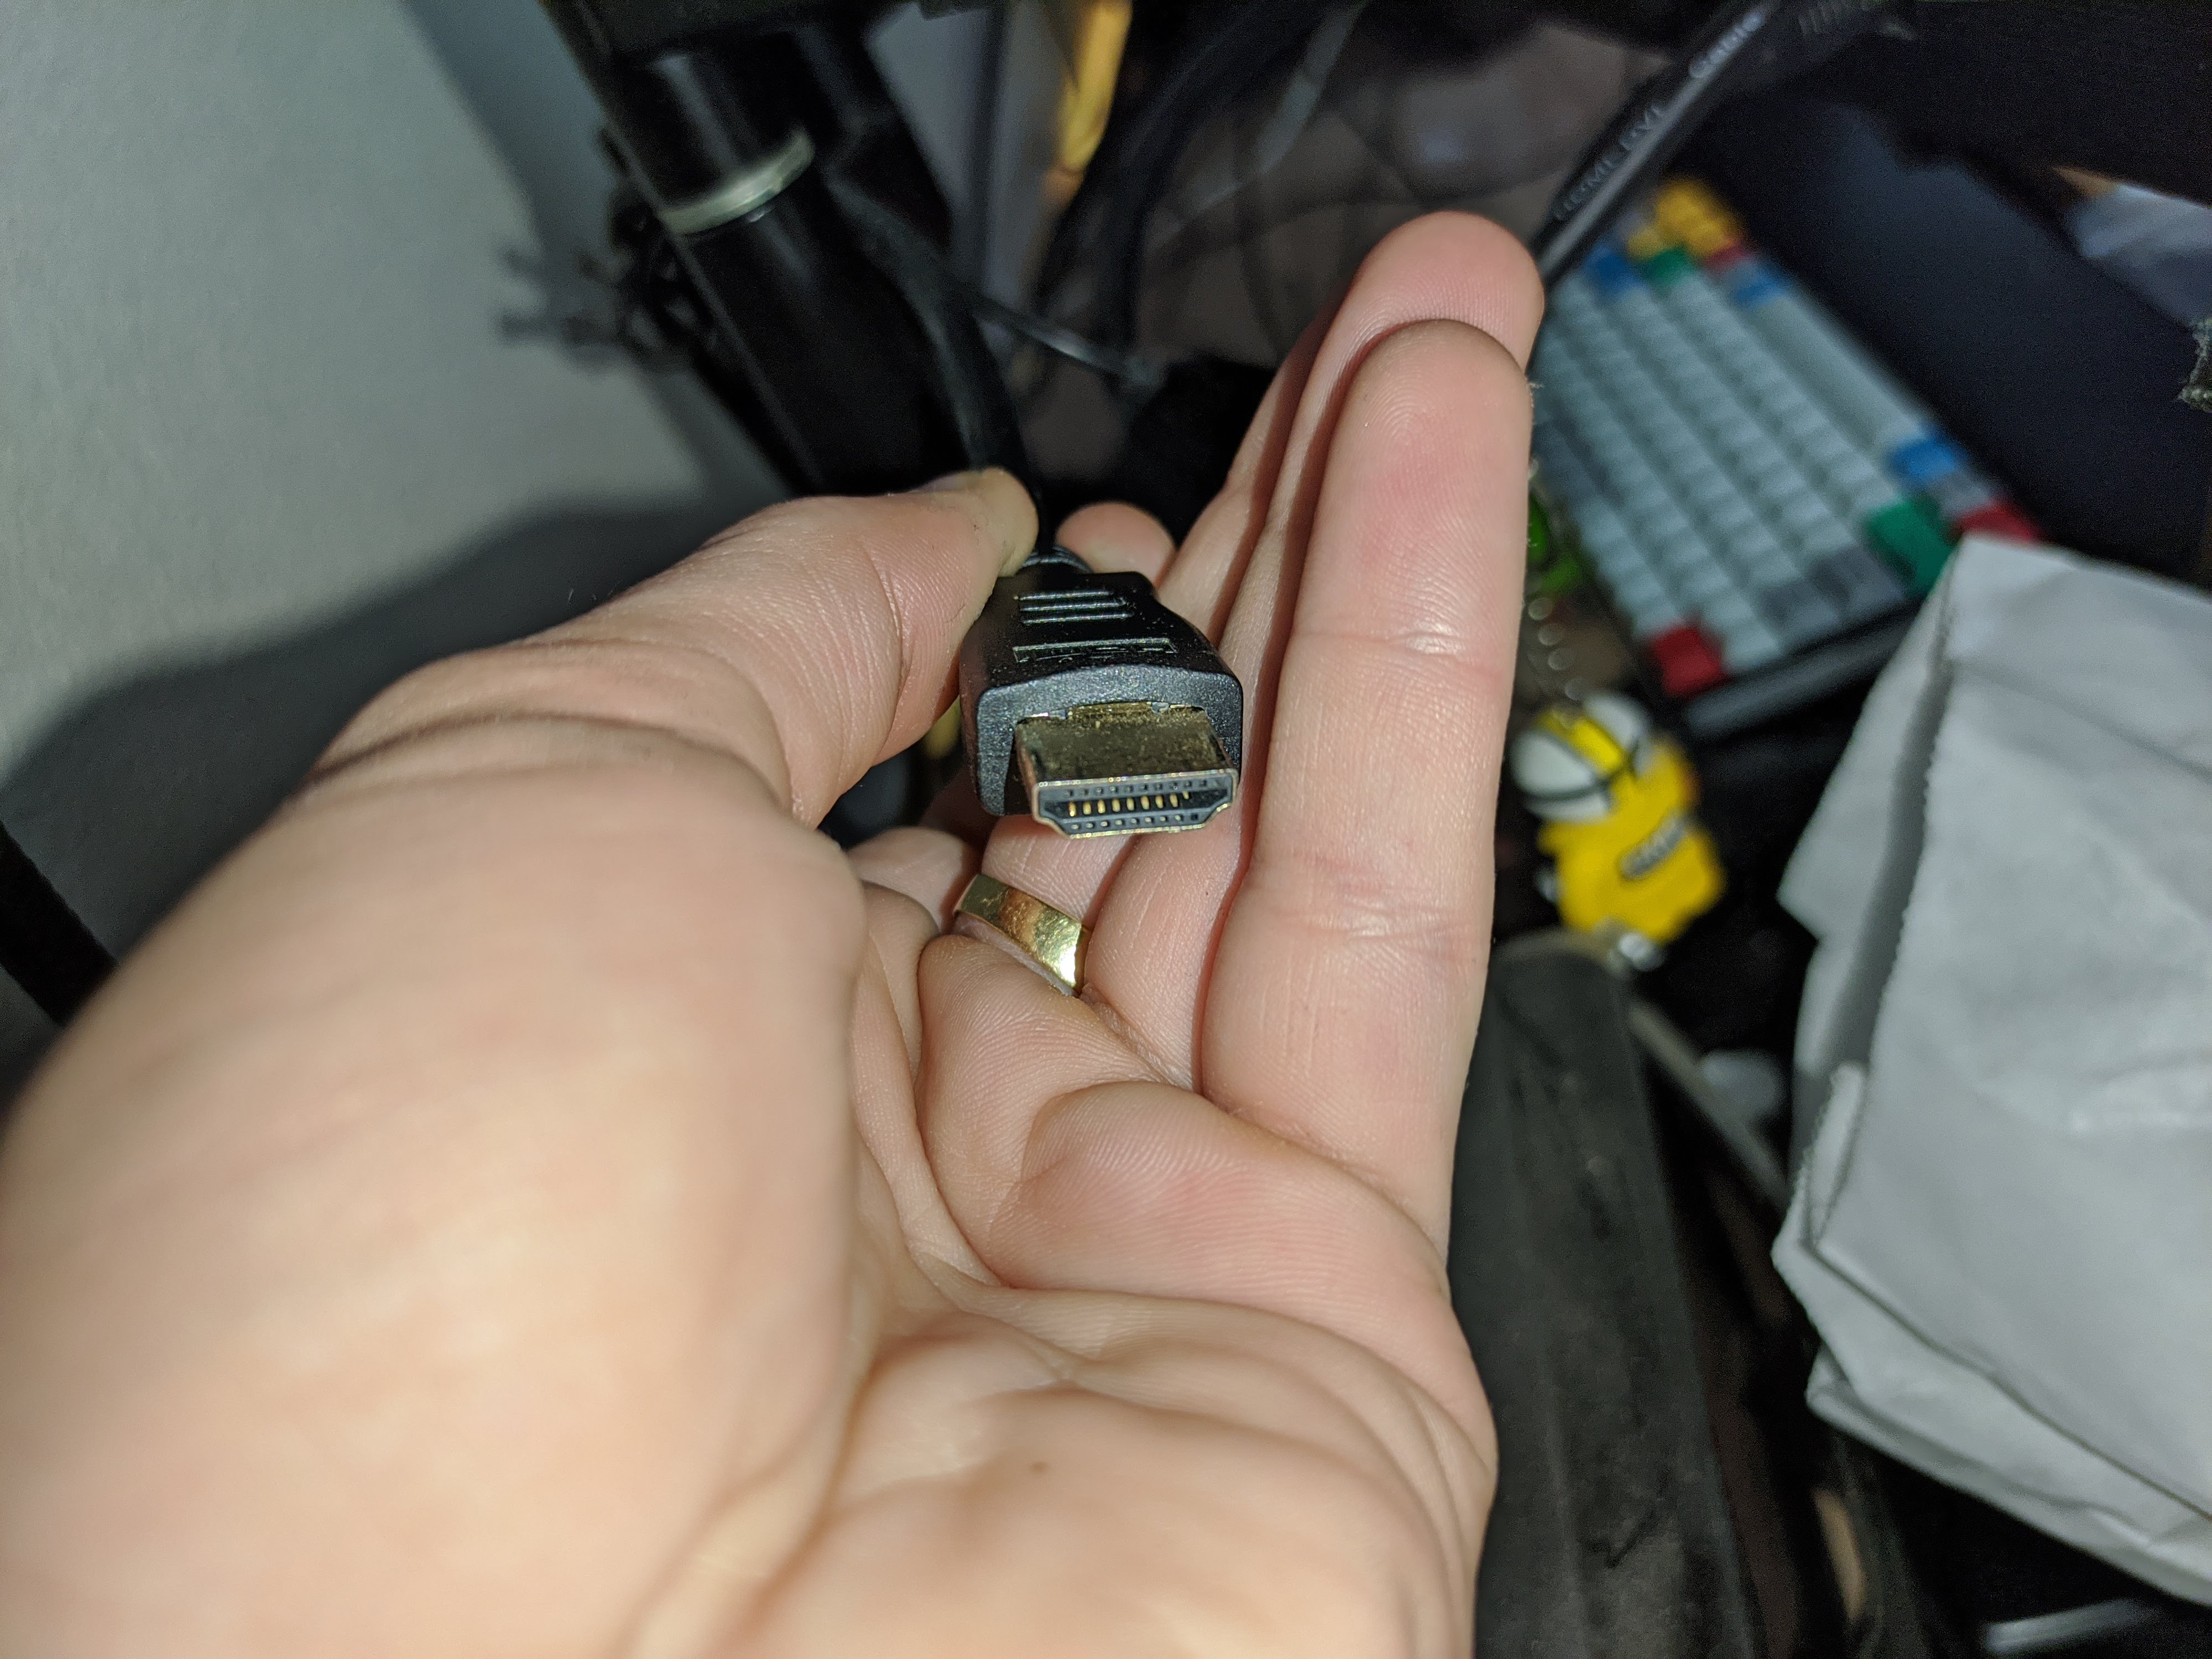hdmi_out: (1012, 699, 1240, 843)
